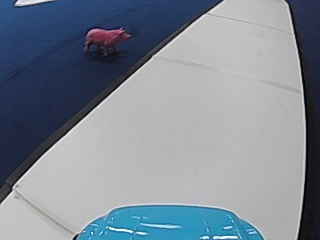pig: (83, 23, 130, 57)
